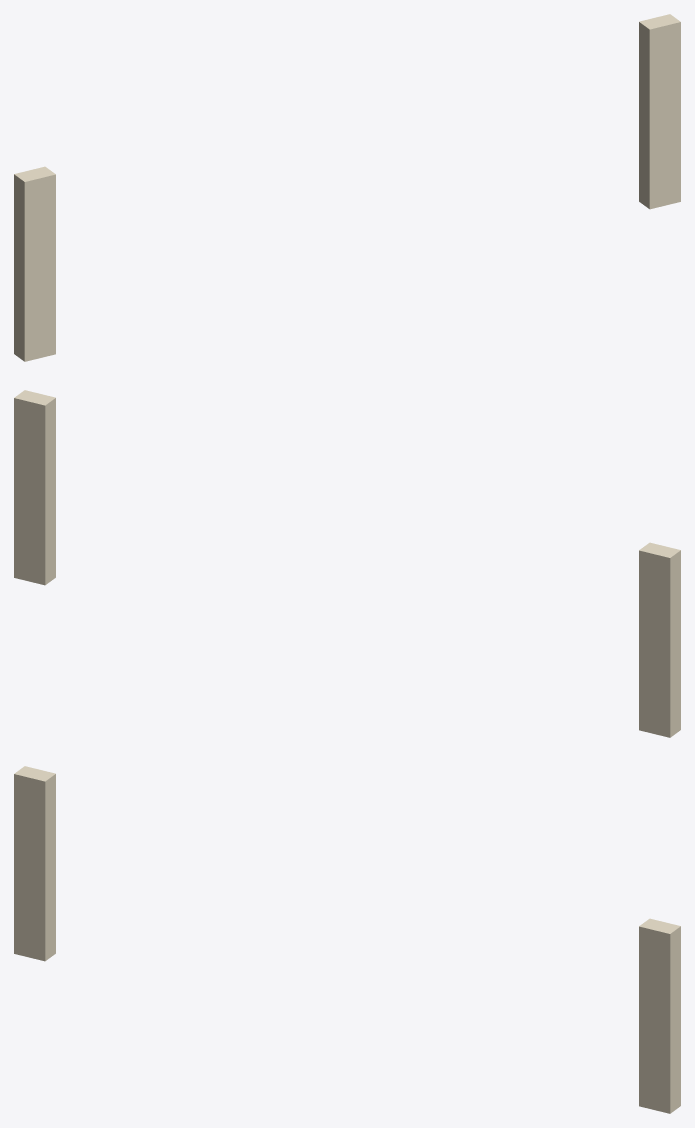
The model's file is place-gobekli-tepe.glb.
3 views of the same model, one above another, from view 1: azimuth 30°, elevation 25°; view 2: azimuth 150°, elevation 25°; view 3: azimuth 330°, elevation 25° (orthographic).
Visible parts, largest first — view 1: place-gobekli-tepe; view 2: place-gobekli-tepe; view 3: place-gobekli-tepe.
Part boxes in pixels (<box>): place-gobekli-tepe: <box>14,14,680,361</box>; place-gobekli-tepe: <box>14,390,680,737</box>; place-gobekli-tepe: <box>14,766,680,1113</box>.
Bounding box in the file's own units: 21 × 5.5 × 0.6.
